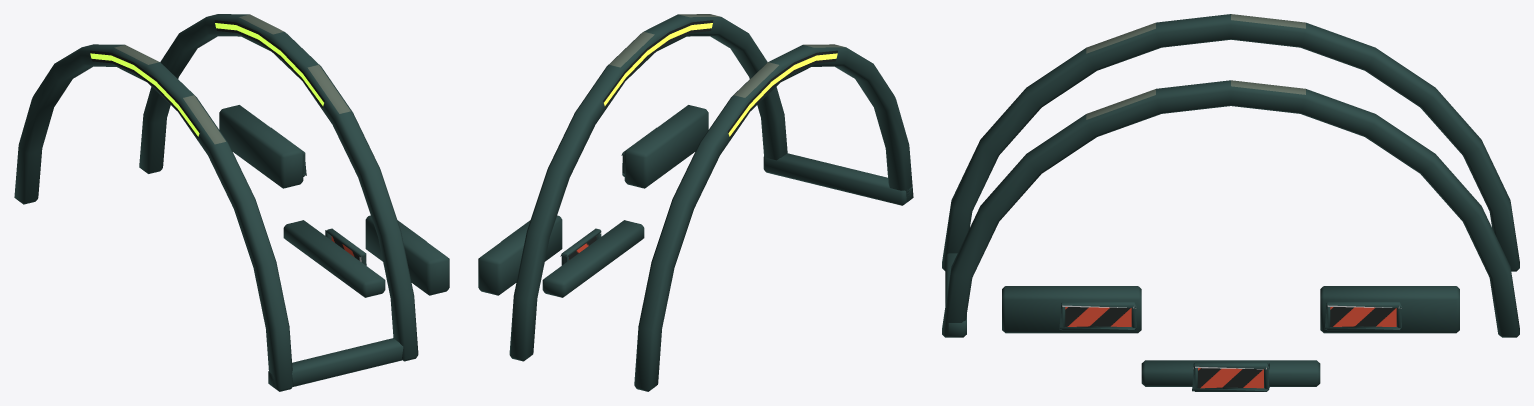
Rendered from warden_mantle_brood.glb.
3 views of the same model, side by side, from view 1: azimuth 30°, elevation 25°; view 2: azimuth 150°, elevation 25°; view 3: azimuth 270°, elevation 25° (orthographic). The views are drawn at different scales.
Visible parts, largest first — view 1: BroodRibs, BroodLaunchRail; view 2: BroodRibs, BroodLaunchRail; view 3: BroodRibs, BroodLaunchRail.
Boxes of the visible parts, x1,y1,x2,y2 form: BroodRibs: (14,14,418,391); BroodLaunchRail: (219,105,449,297); BroodRibs: (509,14,913,391); BroodLaunchRail: (478,105,708,297); BroodRibs: (942,14,1519,337); BroodLaunchRail: (1002,286,1459,391).
Bounding box in the file's own units: 2.14 × 2.49 × 4.79.
Materials: 4 (1 with a texture image).
